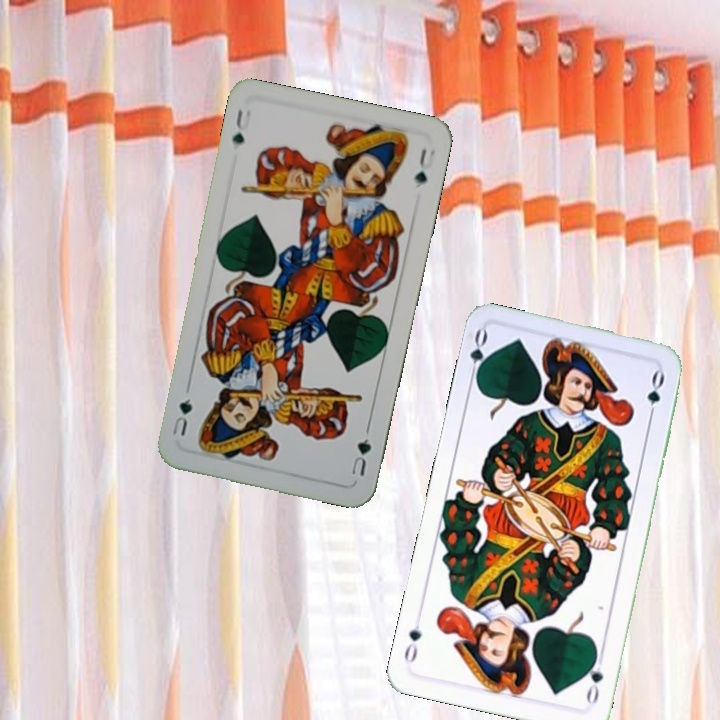GO: (465, 326, 493, 386), (582, 650, 606, 707)
GU: (347, 434, 374, 479), (227, 105, 251, 147)
